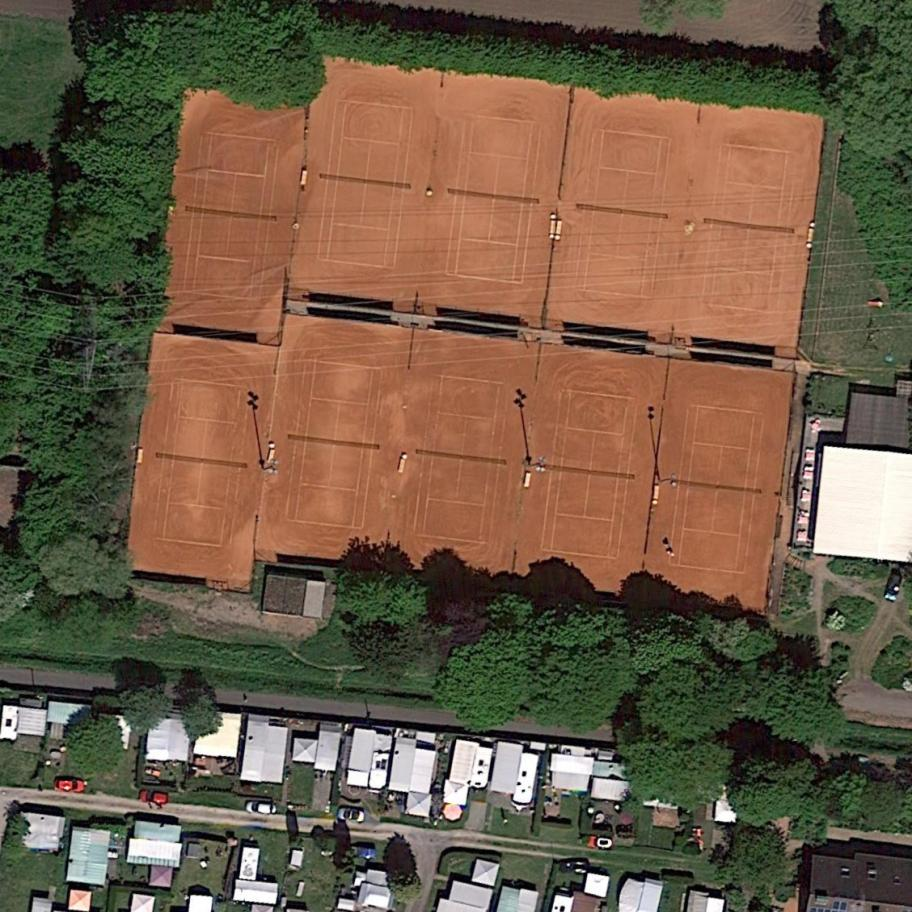small-vehicle: (882, 568, 907, 602), (556, 858, 591, 877), (335, 805, 367, 824), (52, 777, 85, 794), (246, 800, 279, 816), (139, 789, 170, 805), (349, 846, 378, 860)
